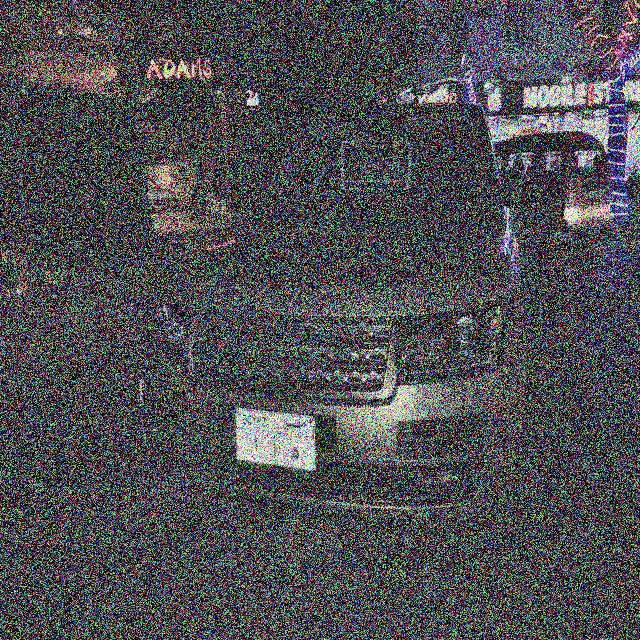License Plate: (232, 403, 317, 477)
